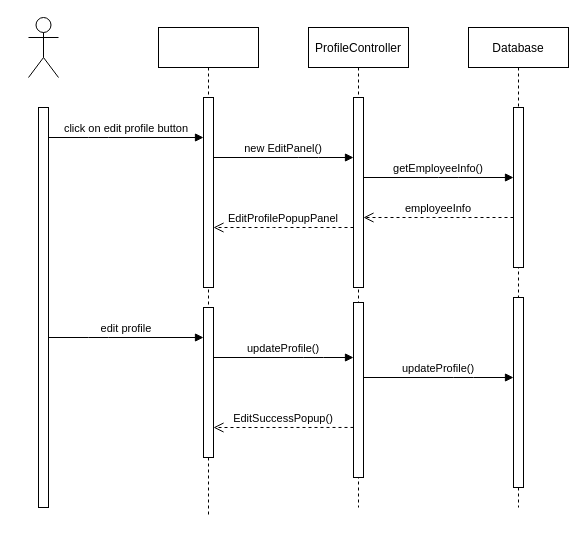
The diagram is 586 pixels wide and 535 high, and some of its shapes have lost their labels. The shapes that lost their labels are listed below. From the top down, each one's box as (x1, y1, x2, y2) in pixels, then its label:
(28, 16, 58, 78): Employee
(158, 26, 258, 518): Employee ProfileView
